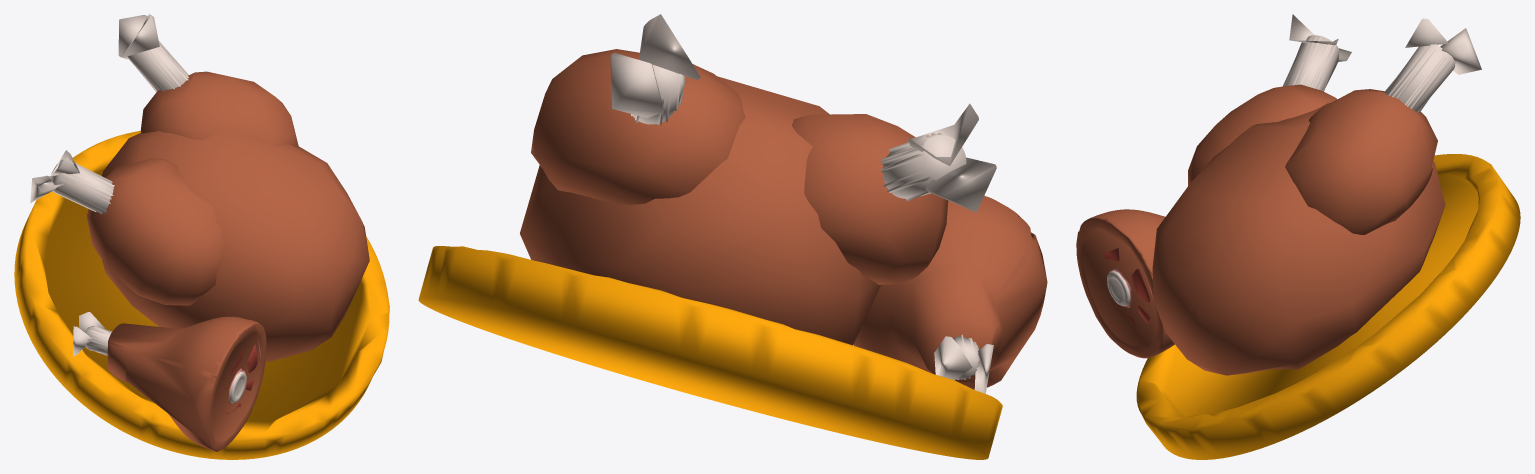
Rendered from chicken.glb.
3 renders of one model, left to right at view 1: azimuth 30°, elevation 25°; view 2: azimuth 150°, elevation 25°; view 3: azimuth 270°, elevation 25°, orthographic. The views are drawn at different scales.
Parts seen in each view (by area): view 1: Cylinder.001, Cube, Cube.001, Cube.002, Cylinder, Sphere, Sphere.001, Cylinder.002, Cube.003; view 2: Cylinder.001, Cube, Cube.001, Cube.002, Sphere, Cylinder, Sphere.001; view 3: Cube, Cylinder.001, Cube.001, Cube.002, Cylinder, Sphere, Cube.003.
Part boxes in pixels (x1,y1,x2,y2): Cylinder.001: [14, 131, 389, 459]; Cube: [102, 130, 369, 361]; Cube.001: [86, 71, 298, 305]; Cube.002: [107, 316, 266, 451]; Cylinder: [50, 41, 188, 214]; Sphere: [30, 14, 159, 202]; Sphere.001: [73, 312, 104, 356]; Cylinder.002: [85, 326, 112, 355]; Cube.003: [224, 344, 257, 413]; Cylinder.001: [418, 246, 1002, 459]; Cube: [520, 76, 880, 345]; Cube.001: [531, 49, 948, 284]; Cube.002: [853, 195, 1047, 389]; Sphere: [610, 14, 996, 212]; Cylinder: [631, 59, 966, 201]; Sphere.001: [934, 336, 993, 393]; Cube: [1152, 103, 1445, 375]; Cylinder.001: [1136, 154, 1520, 459]; Cube.001: [1188, 84, 1437, 234]; Cube.002: [1076, 209, 1174, 358]; Cylinder: [1283, 35, 1455, 112]; Sphere: [1289, 14, 1481, 74]; Cube.003: [1100, 248, 1150, 325].
Bounding box in the file's own units: 5.57 × 5.59 × 5.6.
